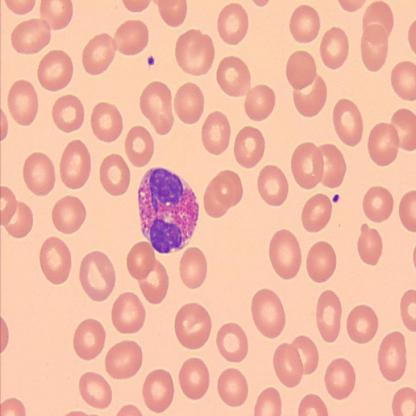Eosinophil: (139, 167, 199, 255)
